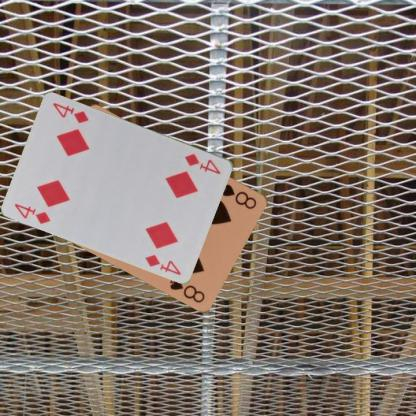4d: (182, 150, 222, 176), (12, 200, 52, 225)
8s: (219, 181, 258, 210)
